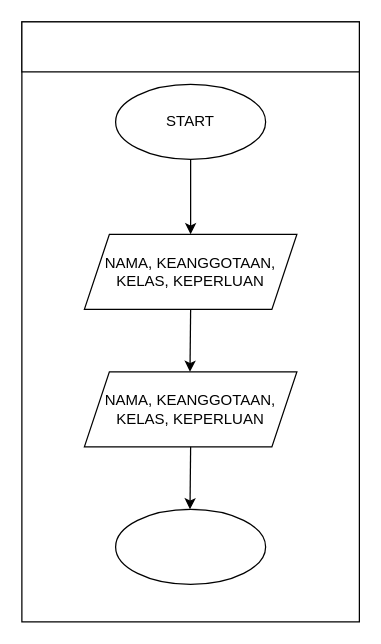
This 381x644 diagram has some shape labels left out. The box of each missing label's shape, as (x1, y1, x2, y2) in pixels:
END: (114, 508, 266, 584)
FLOWCHART PERPUSTAKAN DIGTAL: (21, 21, 359, 72)
